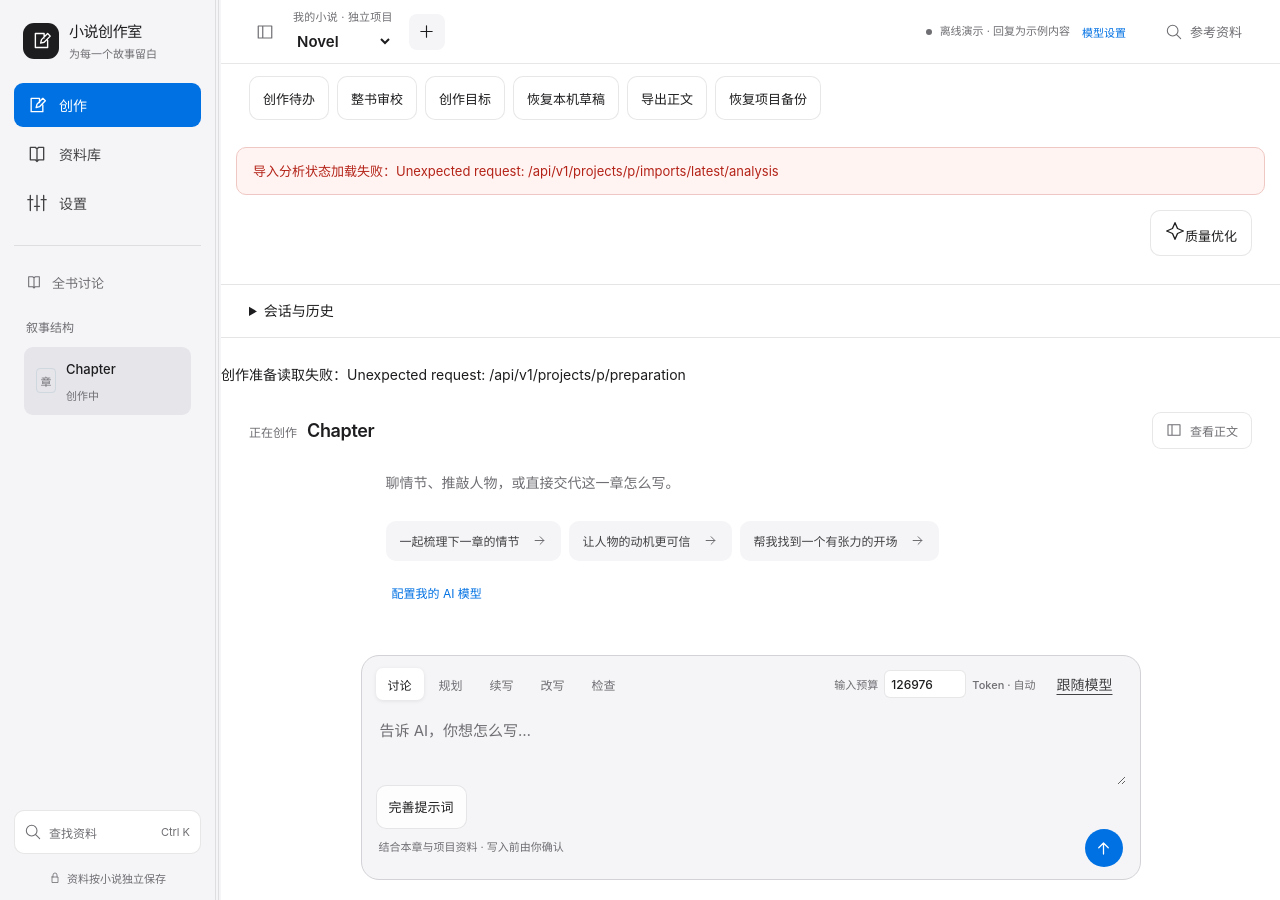
Test case: does not let a detail request begun before pinning roll back the pinned revision
(page scrolled)
Step 1. Click the button "参考资料" → [1204, 32], box [1156,14,1252,50]
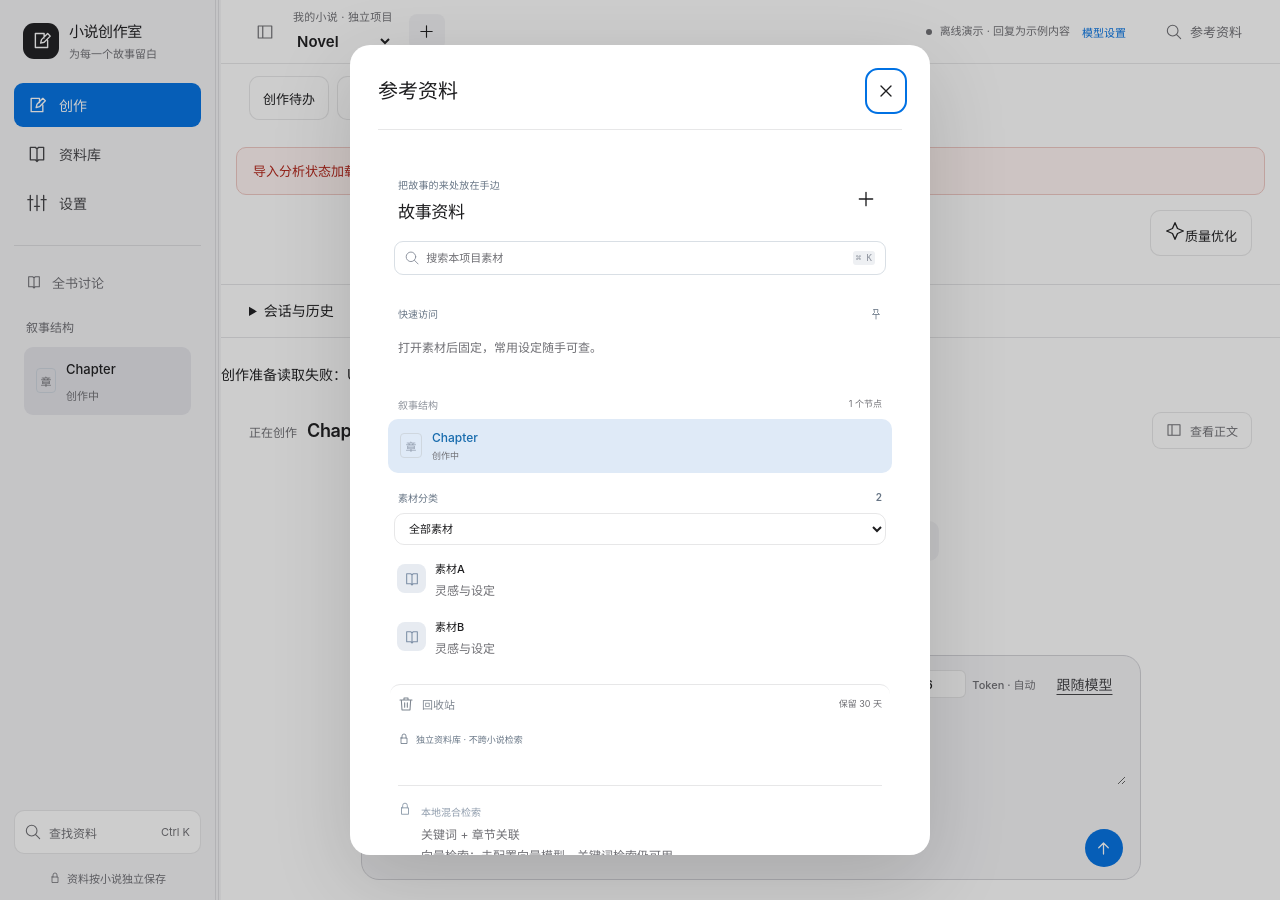
Step 2. Click the button "素材A 灵感与设定" → [465, 590], box [388,550,892,608]
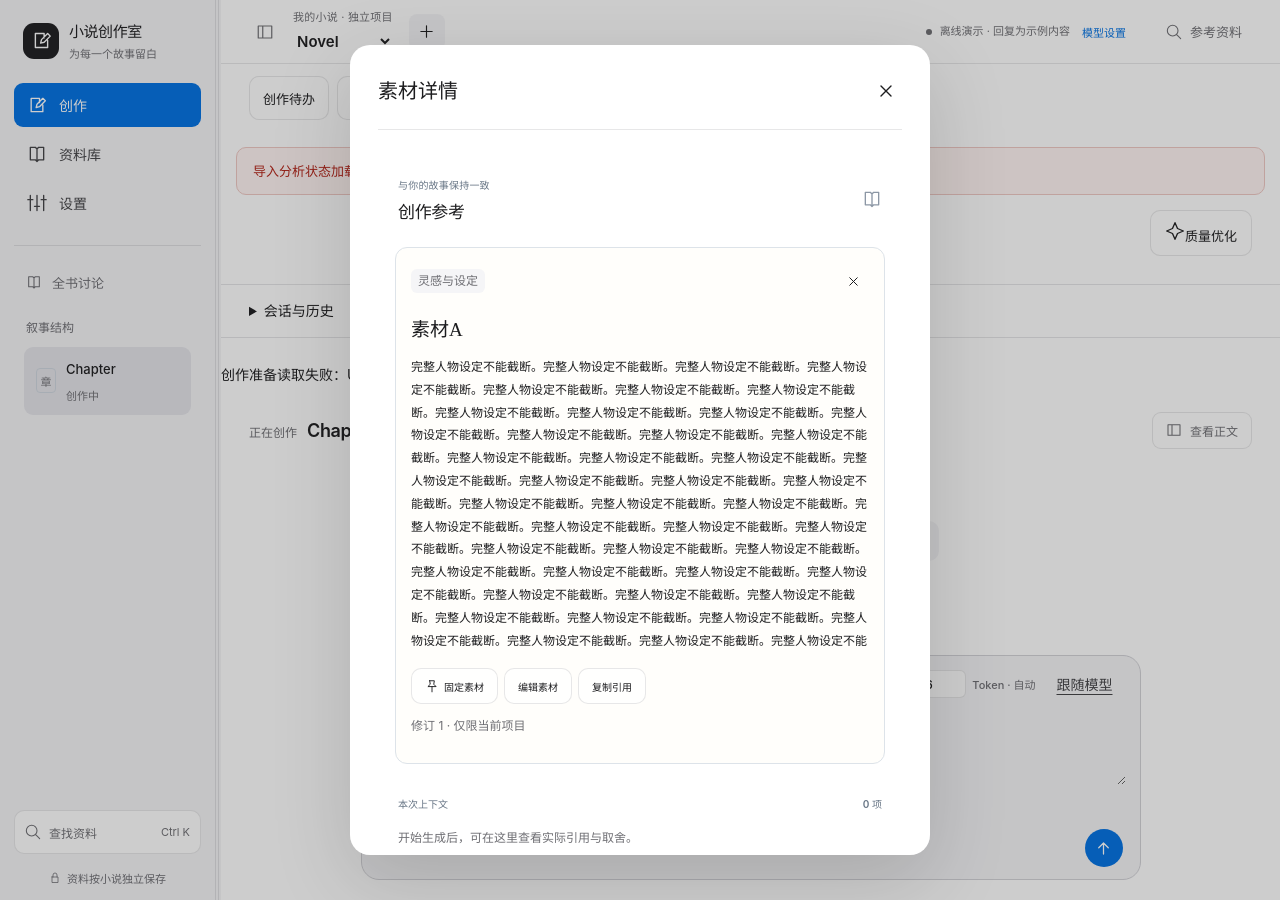
Check: the button "固定素材" is shown
Step 3. Click the button "固定素材" → [454, 686], box [411,668,498,704]
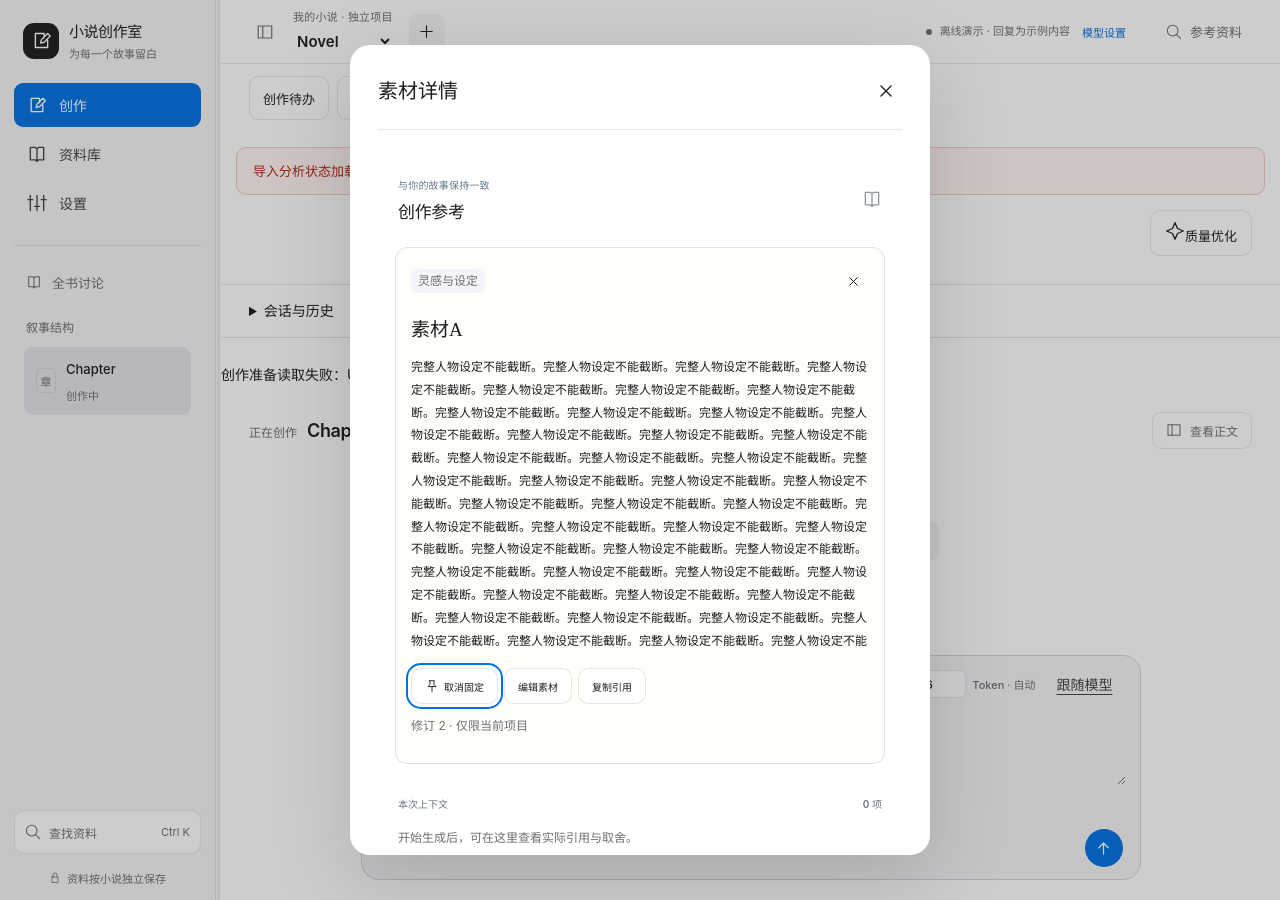
Check: the button "取消固定" is shown, box [411,668,498,704]
